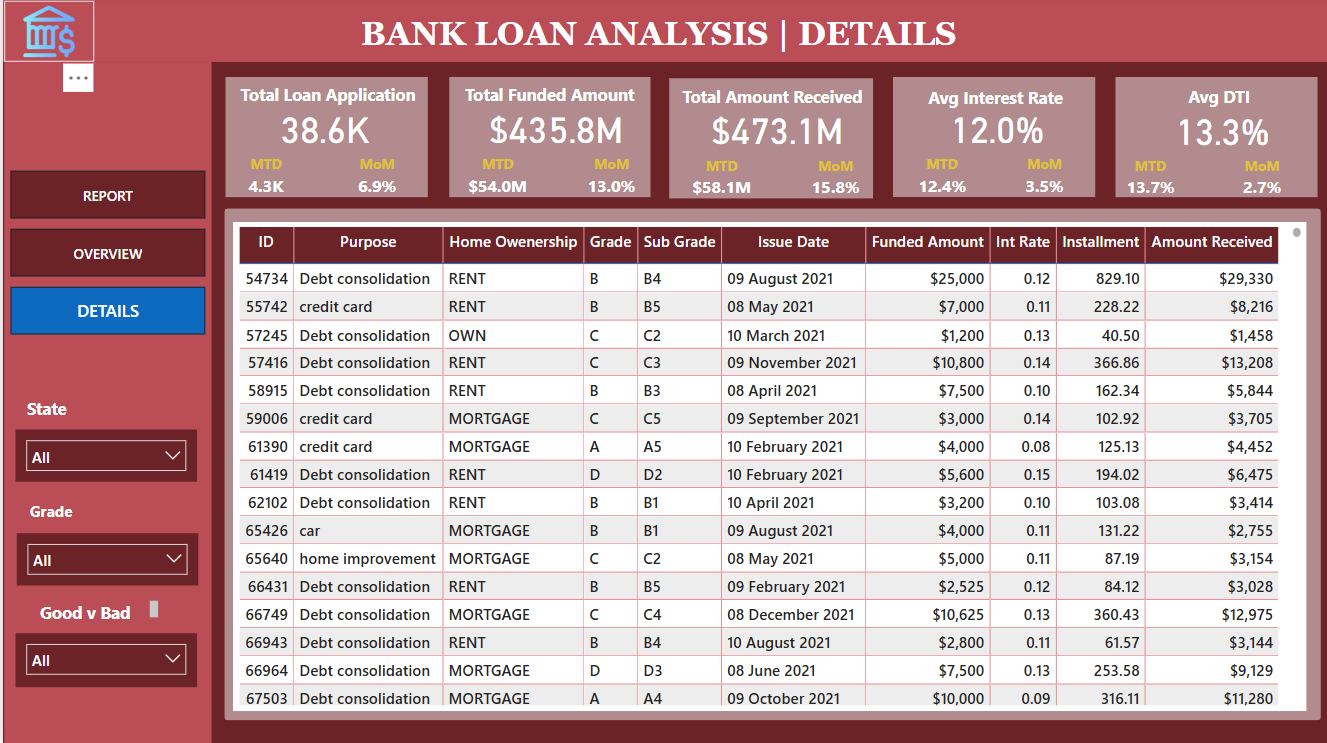

This screenshot's page, from the dashboard's own definition file:
{"tool":"powerbi","page":{"name":"DETAILS","canvas":[1280,720],"ordinal":2},"visuals":[{"type":"shape","box":[1.2,62.7,200.3,657.5],"z":0},{"type":"shape","box":[1073.8,76.7,195,116],"z":0,"group":"g5"},{"type":"shape","box":[215,77.5,195.7,116.2],"z":0,"group":"g1"},{"type":"shape","box":[430.2,77.5,194.2,116],"z":0,"group":"g2"},{"type":"shape","box":[859,77.5,195.5,116],"z":0,"group":"g4"},{"type":"shape","box":[643,77.9,196.7,116],"z":0,"group":"g3"},{"type":"textbox","box":[216.2,78.5,195.4,31.4],"z":1000,"group":"g1"},{"type":"textbox","box":[430.4,78.5,193.6,31.4],"z":1000,"group":"g2"},{"type":"textbox","box":[1096.5,78.5,154.2,32],"z":1000,"group":"g5"},{"type":"textbox","box":[644.1,78.6,196.4,31.4],"z":1000,"group":"g3"},{"type":"textbox","box":[859.8,80.6,195.5,31.8],"z":1000,"group":"g4"},{"type":"shape","box":[213.5,203.9,1058,494.6],"z":1000},{"type":"shape","box":[0,1.2,1280,61.2],"z":2000},{"type":"card","fields":{"Values":["financial_loan.Total Loan Application"]},"box":[226.2,105.5,170.8,41.6],"z":2000,"group":"g1"},{"type":"card","fields":{"Values":["financial_loan.Total Funded Amount"]},"box":[448.6,105.5,170,41],"z":2000,"group":"g2"},{"type":"card","fields":{"Values":["financial_loan.Total Amount Received"]},"box":[662.1,105.5,170,40.8],"z":2000,"group":"g3"},{"type":"card","fields":{"Values":["financial_loan.Avg Interest Rate"]},"box":[875.1,105.5,170,40.8],"z":2000,"group":"g4"},{"type":"card","fields":{"Values":["financial_loan.Avg DTI"]},"box":[1091.4,105.5,170.5,43],"z":2000,"group":"g5"},{"type":"card","title":"MTD","fields":{"Values":["financial_loan.MTD Loan Application"]},"box":[222.1,152.5,63.6,44],"z":3000,"group":"g1"},{"type":"card","title":"MTD","fields":{"Values":["financial_loan.MTD Funded Amount"]},"box":[441.6,152.5,71.8,44],"z":3000,"group":"g2"},{"type":"card","title":"MTD","fields":{"Values":["financial_loan.MTD Total Amount Received"]},"box":[656.9,152.5,72.1,44],"z":3000,"group":"g3"},{"type":"card","title":"MTD","fields":{"Values":["financial_loan.MTD Avg Interest Rate"]},"box":[875.3,152.5,60.9,44],"z":3000,"group":"g4"},{"type":"card","title":"MTD","fields":{"Values":["financial_loan.MTD Avg DTI"]},"box":[1074.1,152.5,67.1,44],"z":3000,"group":"g5"},{"type":"textbox","box":[12.1,577.9,142.4,36.2],"z":3000},{"type":"textbox","box":[340,12.5,643.8,48.8],"z":4000},{"type":"card","title":"MoM","fields":{"Values":["financial_loan.MoM Loan Application"]},"box":[327.9,152.5,65.7,44],"z":4000,"group":"g1"},{"type":"card","title":"MoM","fields":{"Values":["financial_loan.MoM Total Funded Amount"]},"box":[555.5,152.5,62.1,44],"z":4000,"group":"g2"},{"type":"card","title":"MoM","fields":{"Values":["financial_loan.MoM Total Amount Received"]},"box":[771.2,152.5,65,44],"z":4000,"group":"g3"},{"type":"card","title":"MoM","fields":{"Values":["financial_loan.MoM Interest Rate"]},"box":[978.4,152.5,53.3,44],"z":4000,"group":"g4"},{"type":"card","title":"MoM","fields":{"Values":["financial_loan.MoM Avg DTI"]},"box":[1183.4,152.5,63.3,44],"z":4000,"group":"g5"},{"type":"slicer","fields":{"Values":["financial_loan.address_state"]},"box":[12.1,417.4,174.9,50.7],"z":10000},{"type":"textbox","box":[13.3,481.4,66.4,36.2],"z":11000},{"type":"slicer","fields":{"Values":["financial_loan.grade"]},"box":[13.3,517.6,174.9,50.7],"z":12000},{"type":"slicer","fields":{"Values":["financial_loan.Good vs Bad Loan"]},"box":[12.1,614.1,174.9,51.9],"z":13000},{"type":"textbox","box":[13.3,381.2,57.9,36.2],"z":14000},{"type":"tableEx","fields":{"Values":["financial_loan.id","financial_loan.purpose","financial_loan.home_ownership","financial_loan.grade","financial_loan.sub_grade","financial_loan.issue_date","financial_loan.Total Funded Amount","Sum(financial_loan.int_rate)","Sum(financial_loan.installment)","financial_loan.Total Amount Received"]},"box":[222,217.2,1036.3,471.7],"z":15000},{"type":"pageNavigator","box":[6.9,167.4,188,158],"z":16000},{"type":"image","box":[1.2,3.6,86.9,59.1],"z":17000},{"type":"group","id":"g1","title":"Group 1","box":[215,77.5,196.6,119],"z":17001},{"type":"group","id":"g2","title":"Group 1","box":[430.2,77.5,194.2,119],"z":17002},{"type":"group","id":"g3","title":"Group 1","box":[643,77.9,197.5,118.6],"z":17003},{"type":"group","id":"g4","title":"Group 1","box":[859,77.5,196.2,119],"z":17004},{"type":"group","id":"g5","title":"Group 1","box":[1073.8,76.7,195,119.8],"z":17005}]}

Visuals, with their boxes in screenshot pixels (x1, y1, x2, y2), scaled from the page's 1280x720 canvas onto the 1327x743 screenshot:
shape: left=1, top=65, right=209, bottom=742
shape: left=1113, top=79, right=1315, bottom=199
shape: left=223, top=80, right=426, bottom=200
shape: left=446, top=80, right=647, bottom=200
shape: left=891, top=80, right=1093, bottom=200
shape: left=667, top=80, right=871, bottom=200
textbox: left=224, top=81, right=427, bottom=113
textbox: left=446, top=81, right=647, bottom=113
textbox: left=1137, top=81, right=1297, bottom=114
textbox: left=668, top=81, right=871, bottom=114
textbox: left=891, top=83, right=1094, bottom=116
shape: left=221, top=210, right=1318, bottom=721
shape: left=0, top=1, right=1326, bottom=64
card - financial_loan.Total Loan Application: left=235, top=109, right=412, bottom=152
card - financial_loan.Total Funded Amount: left=465, top=109, right=641, bottom=151
card - financial_loan.Total Amount Received: left=686, top=109, right=863, bottom=151
card - financial_loan.Avg Interest Rate: left=907, top=109, right=1083, bottom=151
card - financial_loan.Avg DTI: left=1131, top=109, right=1308, bottom=153
"MTD" card: left=230, top=157, right=296, bottom=203
"MTD" card: left=458, top=157, right=532, bottom=203
"MTD" card: left=681, top=157, right=756, bottom=203
"MTD" card: left=907, top=157, right=971, bottom=203
"MTD" card: left=1114, top=157, right=1183, bottom=203
textbox: left=13, top=596, right=160, bottom=634
textbox: left=352, top=13, right=1020, bottom=63
"MoM" card: left=340, top=157, right=408, bottom=203
"MoM" card: left=576, top=157, right=640, bottom=203
"MoM" card: left=800, top=157, right=867, bottom=203
"MoM" card: left=1014, top=157, right=1070, bottom=203
"MoM" card: left=1227, top=157, right=1292, bottom=203
slicer - financial_loan.address_state: left=13, top=431, right=194, bottom=483
textbox: left=14, top=497, right=83, bottom=534
slicer - financial_loan.grade: left=14, top=534, right=195, bottom=586
slicer - financial_loan.Good vs Bad Loan: left=13, top=634, right=194, bottom=687
textbox: left=14, top=393, right=74, bottom=431
tableEx - financial_loan.id x financial_loan.purpose: left=230, top=224, right=1305, bottom=711
pageNavigator: left=7, top=173, right=202, bottom=336
image: left=1, top=4, right=91, bottom=65
"Group 1" group: left=223, top=80, right=427, bottom=203
"Group 1" group: left=446, top=80, right=647, bottom=203
"Group 1" group: left=667, top=80, right=871, bottom=203
"Group 1" group: left=891, top=80, right=1094, bottom=203
"Group 1" group: left=1113, top=79, right=1315, bottom=203
